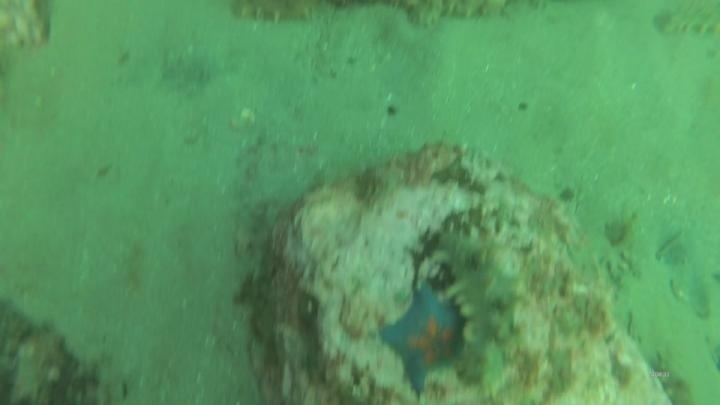holothurian: (425, 221, 530, 390), (397, 0, 512, 31), (225, 0, 329, 29), (650, 2, 720, 40)
starfish: (377, 280, 470, 398)
